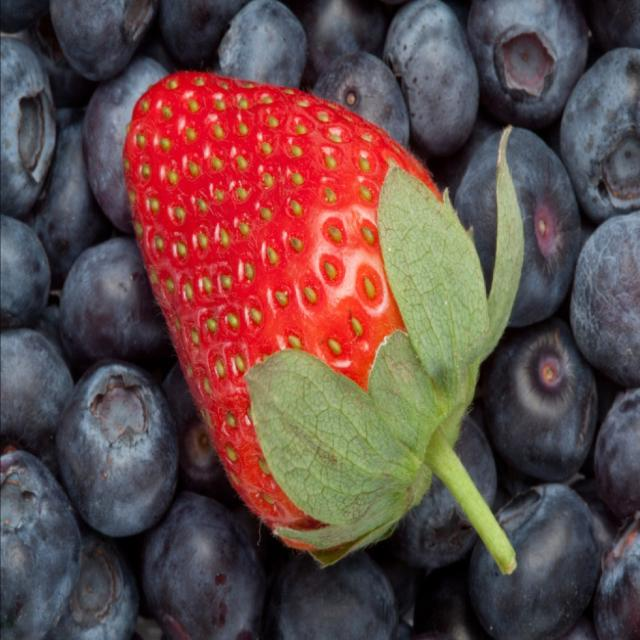strawberry: (108, 38, 536, 581)
